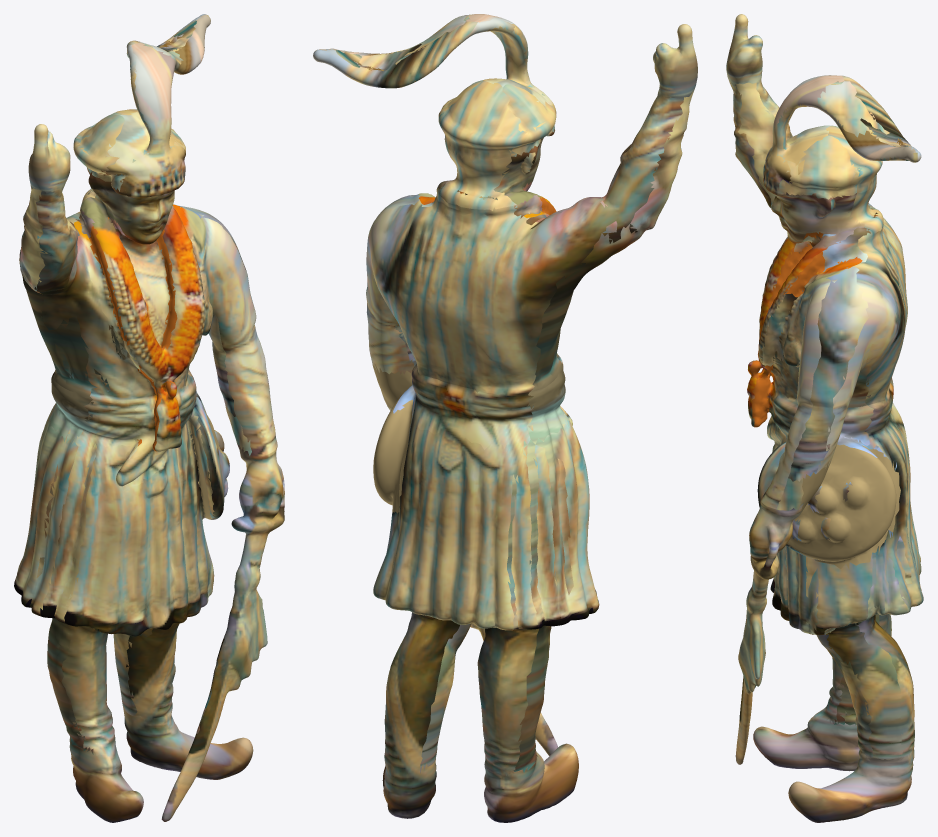
File: prithvi_narayan_shah.glb
3 views of the same model, side by side, from view 1: azimuth 30°, elevation 25°; view 2: azimuth 150°, elevation 25°; view 3: azimuth 270°, elevation 25° (orthographic). The views are drawn at different scales.
Parts seen in each view (by area): view 1: jama, mala, suruwal, shripech, jutta, tarwar, patuka, hands, head, dhal, khukuri; view 2: jama, suruwal, shripech, patuka, jutta, head, dhal, hands; view 3: jama, shripech, suruwal, dhal, jutta, mala, head, tarwar, hands, patuka.
Boxes of the visible parts, left/top/right/bottom form: jama: left=14, top=186, right=277, bottom=630; mala: left=78, top=208, right=202, bottom=451; suruwal: left=47, top=584, right=225, bottom=755; shripech: left=73, top=14, right=210, bottom=193; jutta: left=69, top=705, right=253, bottom=822; tarwar: left=161, top=492, right=284, bottom=821; patuka: left=49, top=369, right=209, bottom=450; hands: left=28, top=124, right=284, bottom=509; head: left=81, top=167, right=184, bottom=244; dhal: left=187, top=405, right=229, bottom=523; khukuri: left=115, top=449, right=168, bottom=491; jama: left=366, top=89, right=694, bottom=630; suruwal: left=384, top=612, right=551, bottom=775; shripech: left=313, top=14, right=556, bottom=161; patuka: left=393, top=363, right=568, bottom=451; jutta: left=382, top=743, right=578, bottom=822; head: left=440, top=129, right=554, bottom=210; dhal: left=373, top=364, right=412, bottom=513; hands: left=653, top=24, right=697, bottom=98; jama: left=728, top=78, right=923, bottom=629; shripech: left=763, top=75, right=921, bottom=199; suruwal: left=743, top=577, right=914, bottom=760; dhal: left=769, top=444, right=900, bottom=569; jutta: left=753, top=714, right=914, bottom=822; mala: left=747, top=232, right=825, bottom=428; head: left=763, top=178, right=883, bottom=243; tarwar: left=735, top=548, right=778, bottom=764; hands: left=726, top=14, right=799, bottom=557; patuka: left=771, top=378, right=900, bottom=457.
Size of the model in its own units: 0.7837 by 2.05 by 0.5206.
11 materials, 11 textured.
